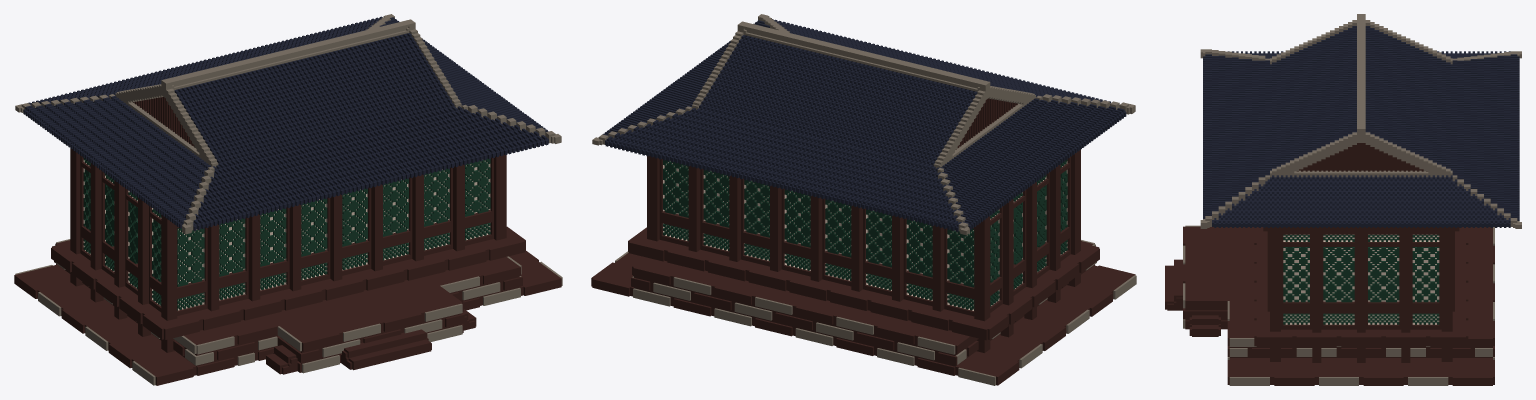
The model's file is Korean castle_house_02.FBX.
3 views of the same model, side by side, from view 1: azimuth 30°, elevation 25°; view 2: azimuth 150°, elevation 25°; view 3: azimuth 270°, elevation 25° (orthographic). The views are drawn at different scales.
Visible parts, largest first — view 1: untitled; view 2: untitled; view 3: untitled.
Boxes of the visible parts, x1=… form: untitled: x1=14, y1=14, x2=562, y2=385; untitled: x1=591, y1=14, x2=1136, y2=385; untitled: x1=1165, y1=14, x2=1521, y2=385.
Size of the model in its own units: 400 by 218 by 320.
Materials: 1 (1 with a texture image).
